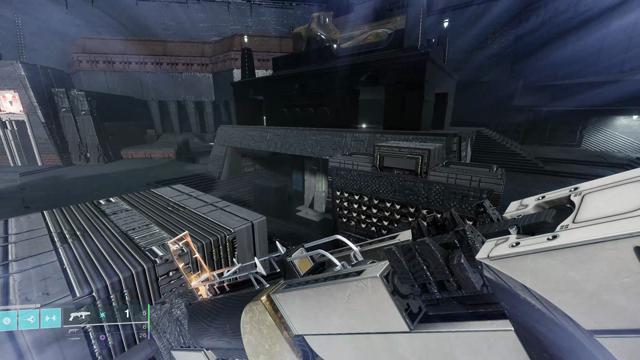give: (0, 93, 20, 108)
